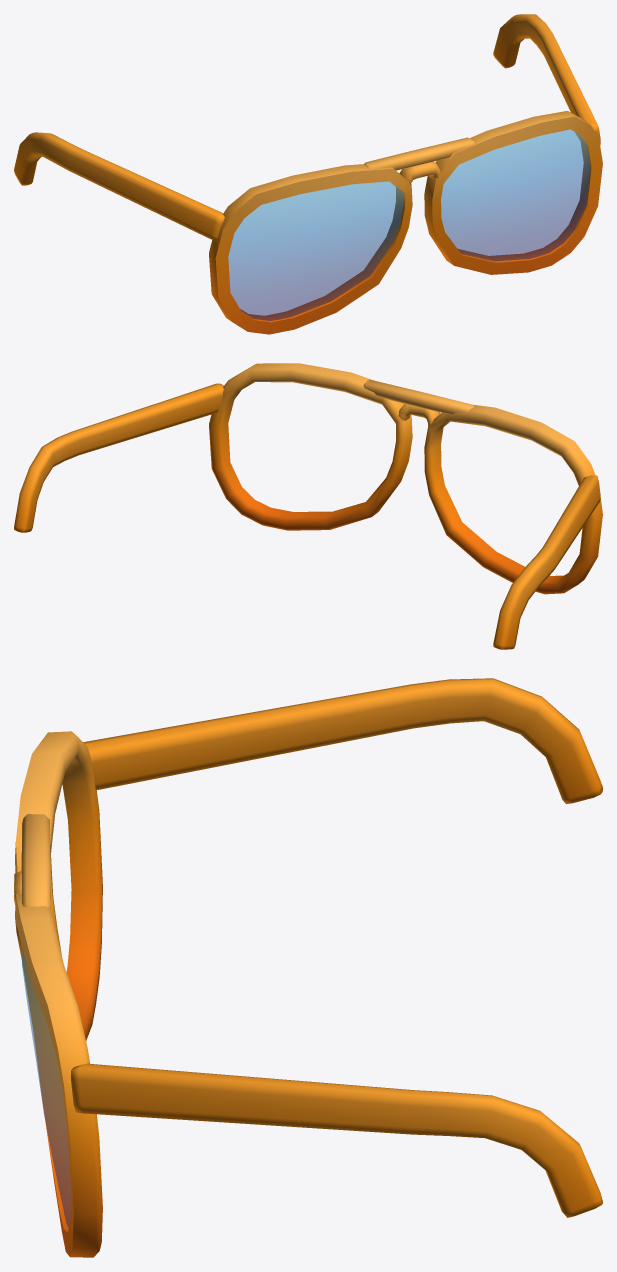
The model's file is Glasses_15.glb.
3 views of the same model, one above another, from view 1: azimuth 30°, elevation 25°; view 2: azimuth 150°, elevation 25°; view 3: azimuth 270°, elevation 25° (orthographic). The views are drawn at different scales.
Parts seen in each view (by area): view 1: Glasses_15; view 2: Glasses_15; view 3: Glasses_15.
Part boxes in pixels (left/top/right/bottom): Glasses_15: left=14, top=14, right=602, bottom=334; Glasses_15: left=14, top=363, right=602, bottom=649; Glasses_15: left=14, top=678, right=602, bottom=1257.
Size of the model in its own units: 0.5949 by 0.1782 by 0.346.
Materials: 2 (2 with a texture image).
